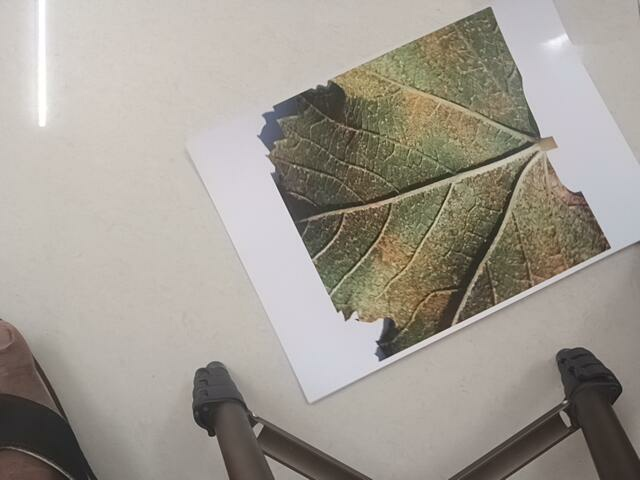Grape_Rust_Fungus: (257, 6, 571, 301)
